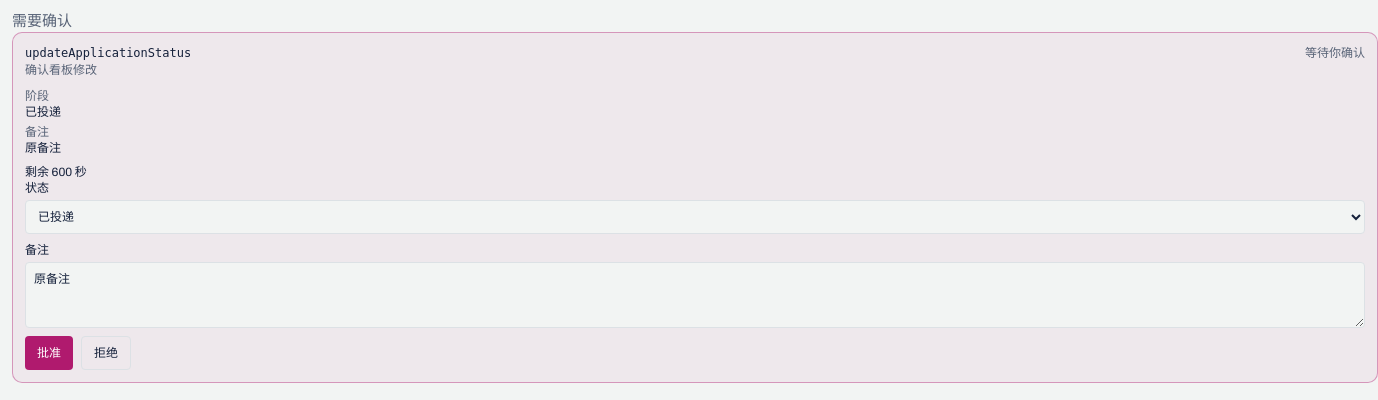
拒绝不发送编辑参数，显示已拒绝且不刷新看板
Click the button "拒绝" at (106, 353), box x1=81 y1=336 x2=131 y2=370
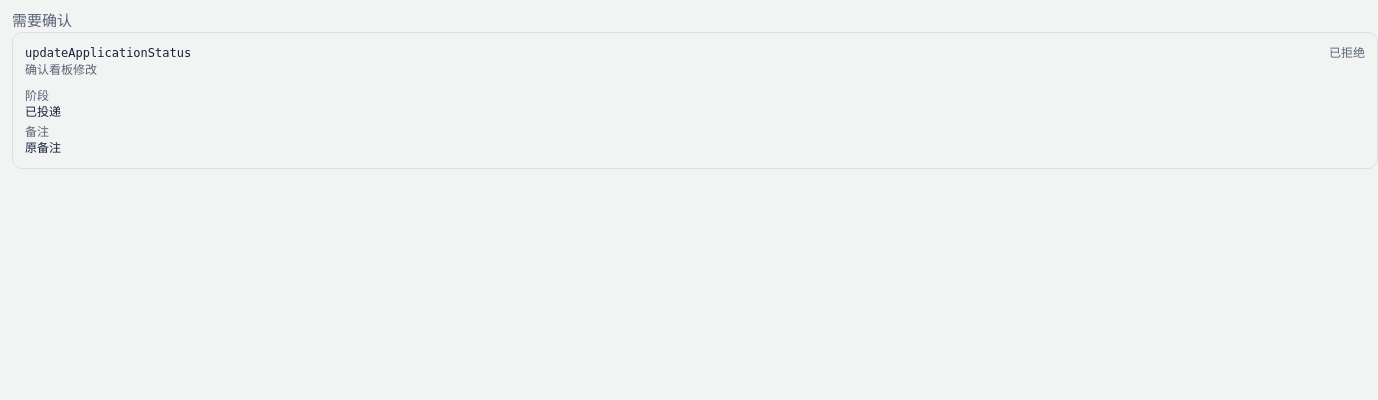
Expected: the text "已拒绝" is shown, x1=1329 y1=44 x2=1365 y2=60
